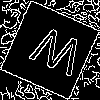W: (25, 25, 87, 87)
